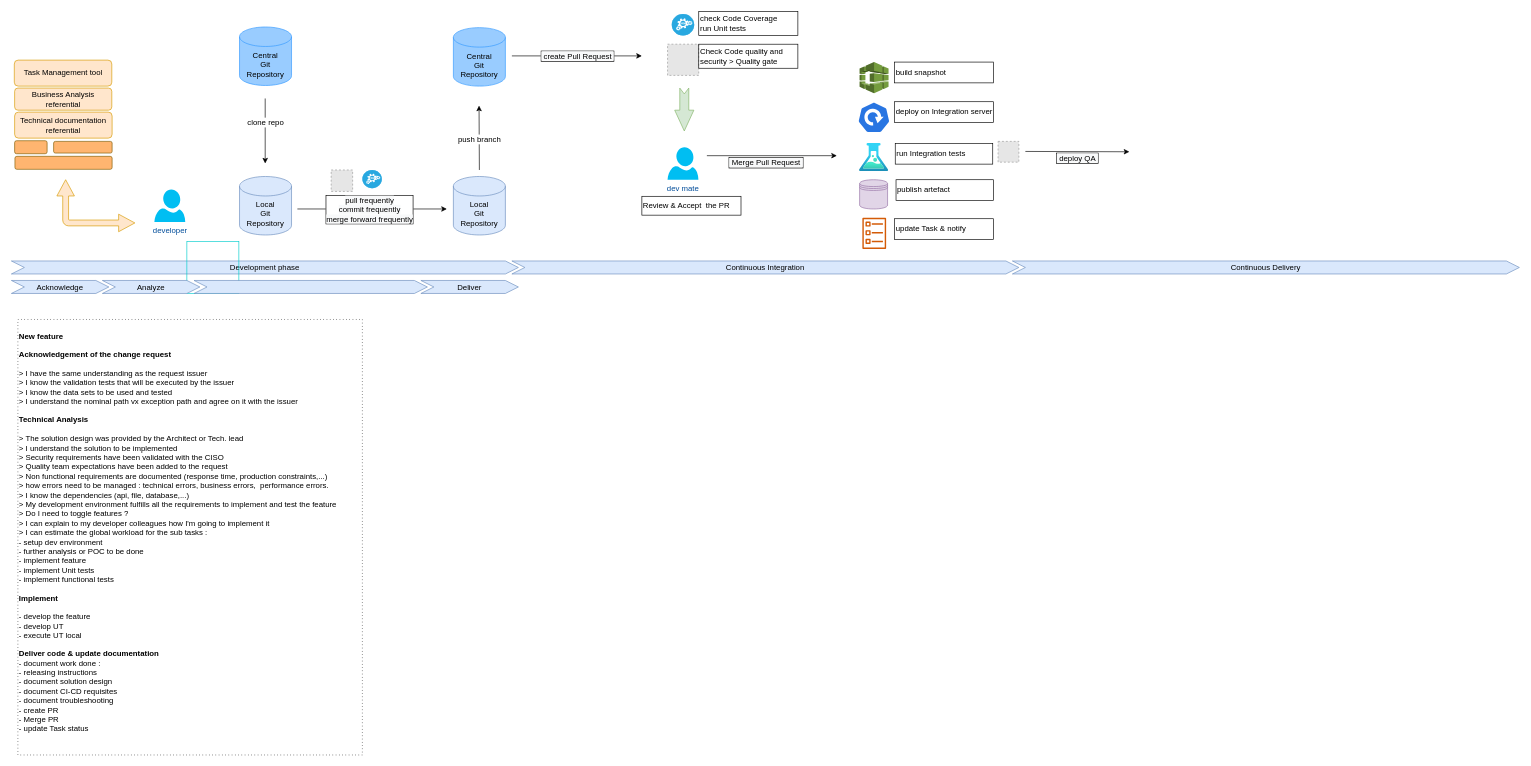
Image size: 1531x766. Some labels were removed from this diagram. Grey dashed boxes stand in for pictures. The shapes that lost their labels are listed below. From the top down, each one's centre as x and y in pixels, then its label:
the point at 30,147: OPS
the point at 63,162: Architecture / Security
the point at 82,147: Service Desk
the point at 310,286: Implement (feature & UT)
